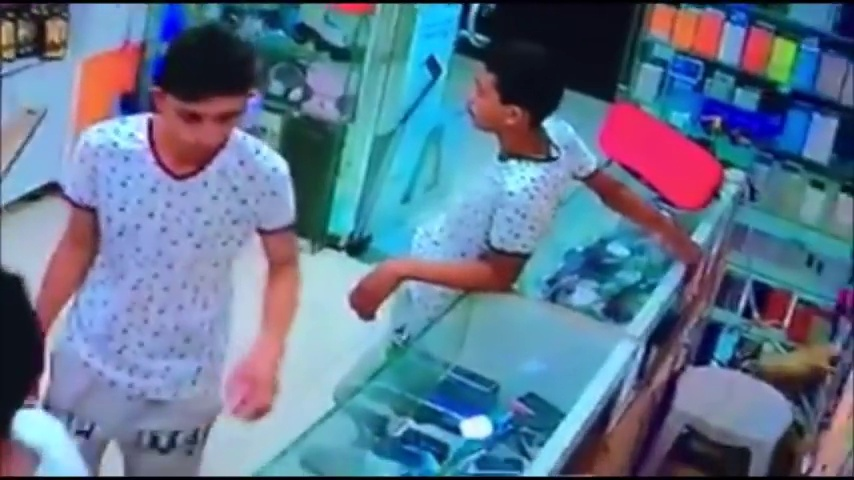face: (158, 96, 233, 163), (460, 65, 505, 138)
